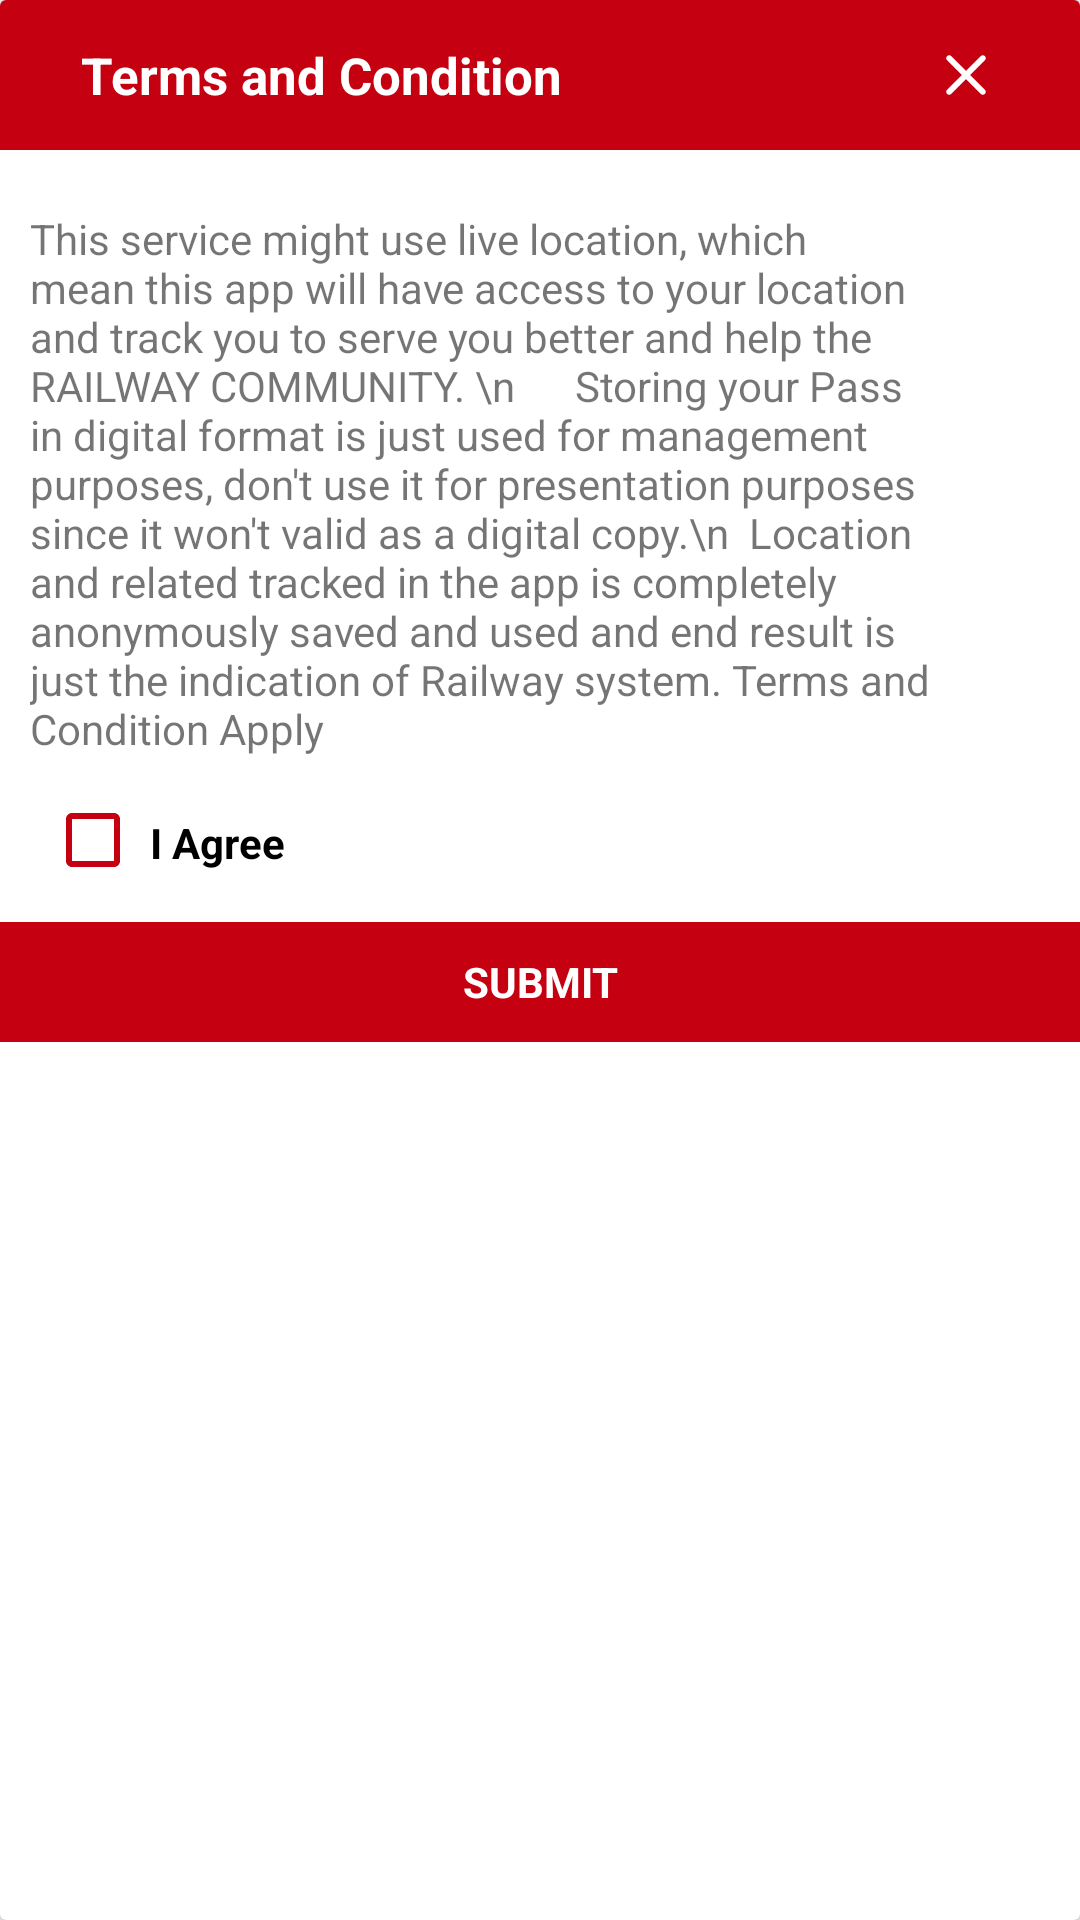

Where to tap for icons on this 1080px×1920px app screen, as [x,y]:
close: [966,75]
